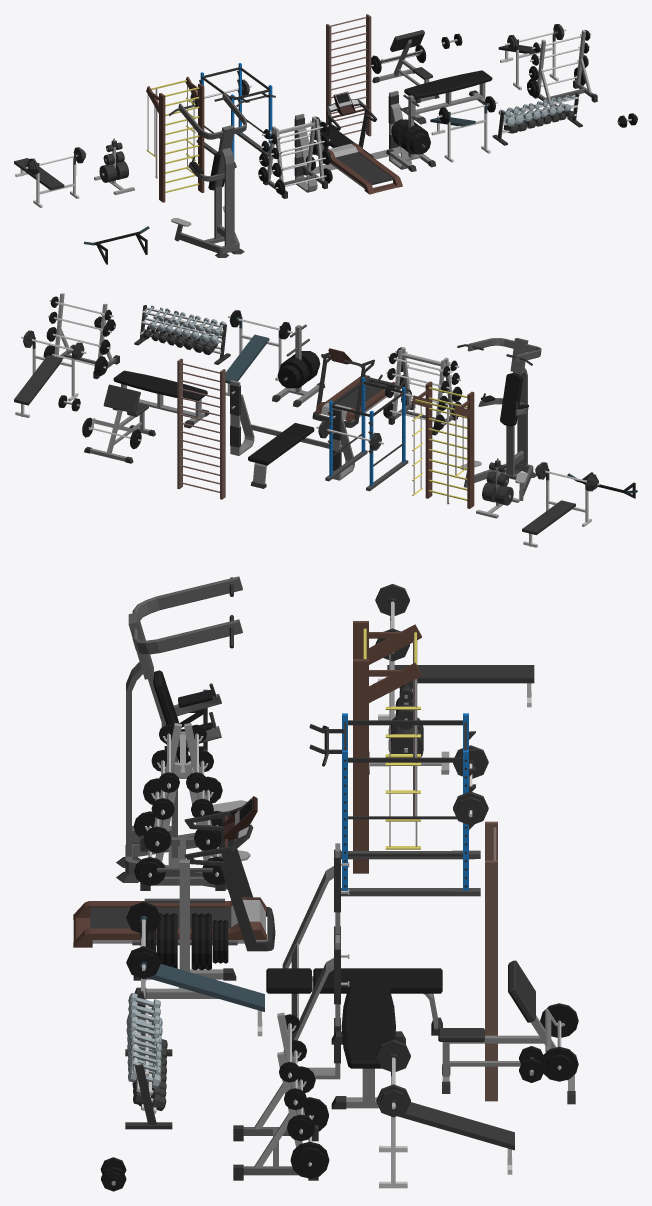
Rendered from GymTools.fbx.
3 renders of one model, top to bottom at view 1: azimuth 30°, elevation 25°; view 2: azimuth 150°, elevation 25°; view 3: azimuth 270°, elevation 25°, orthographic. The views are drawn at different scales.
Parts seen in each view (by area): view 1: New_Game_Object (×17); view 2: New_Game_Object (×16); view 3: New_Game_Object (×16).
Boxes of the visible parts, left/top/right/bottom form: New_Game_Object (×17): left=14, top=14, right=597, bottom=264; New_Game_Object (×16): left=14, top=293, right=599, bottom=547; New_Game_Object (×16): left=73, top=576, right=578, bottom=1188.
Bounding box in the file's own units: 9.57 × 2.35 × 3.87.
